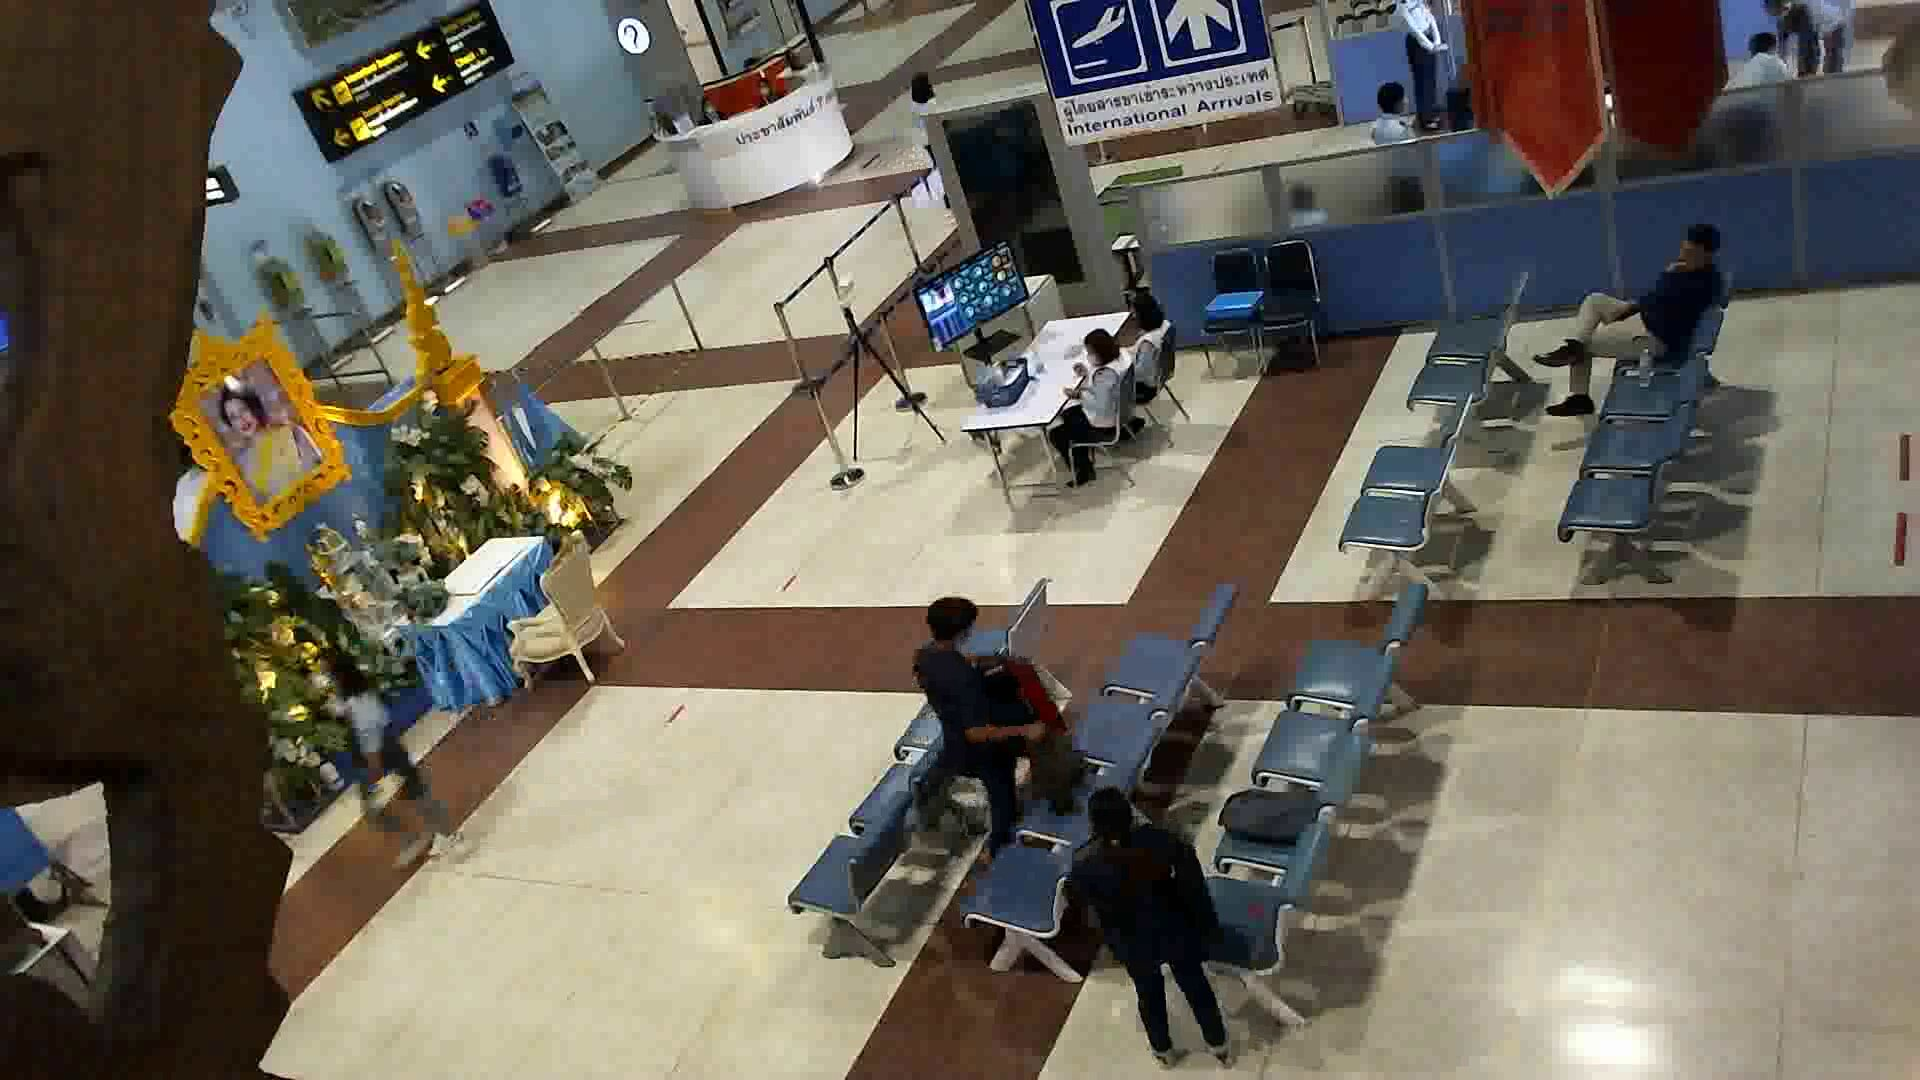backpack: (1218, 780, 1331, 853), (1029, 732, 1091, 816)
luggage: (991, 653, 1064, 726)
people: (293, 643, 476, 890), (1072, 803, 1224, 1061), (1558, 218, 1726, 415), (903, 588, 1003, 830), (1056, 330, 1126, 474), (903, 70, 968, 218), (1114, 290, 1181, 397)
